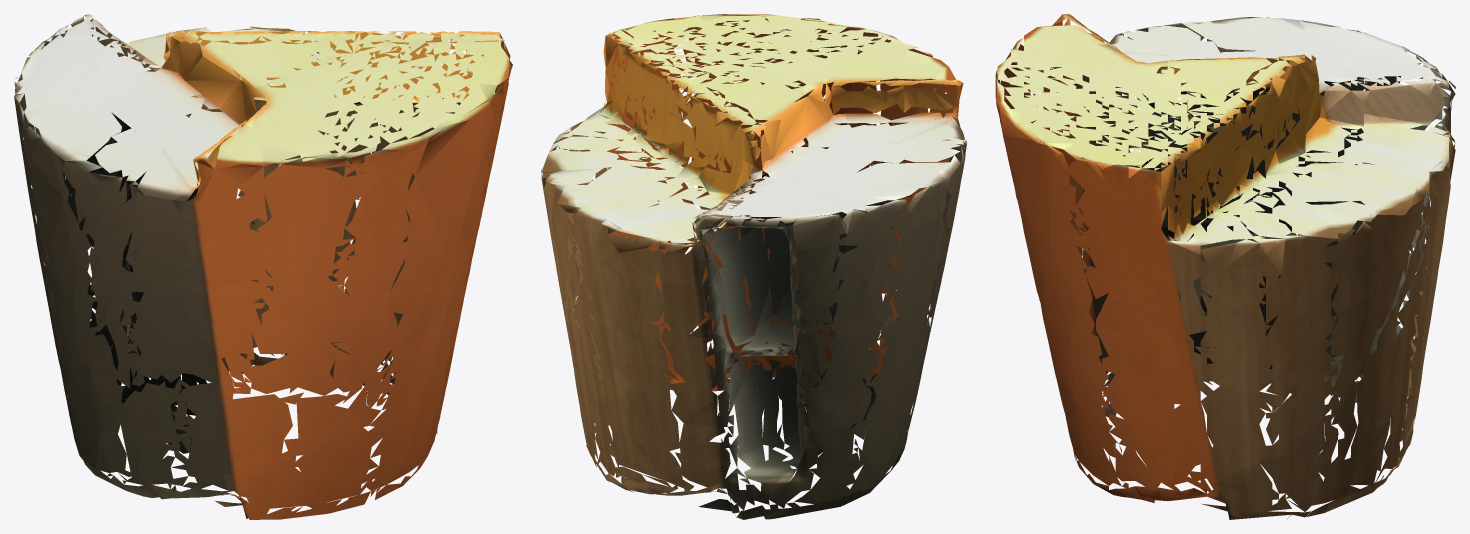
Rendered from standingTable10k.fbx.
3 renders of one model, left to right at view 1: azimuth 30°, elevation 25°; view 2: azimuth 150°, elevation 25°; view 3: azimuth 270°, elevation 25°, orthographic. The views are drawn at different scales.
Visible parts, largest first — view 1: Mesh; view 2: Mesh; view 3: Mesh.
Boxes of the visible parts, x1,y1,x2,y2 form: Mesh: (14, 14, 512, 519); Mesh: (541, 14, 966, 519); Mesh: (995, 14, 1455, 519).
Size of the model in its own units: 1.13 by 1.03 by 1.14.
1 material, 1 textured.
